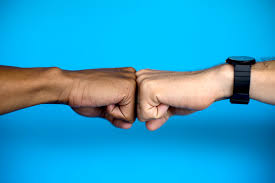fist: (138, 63, 207, 136), (81, 61, 134, 131)
